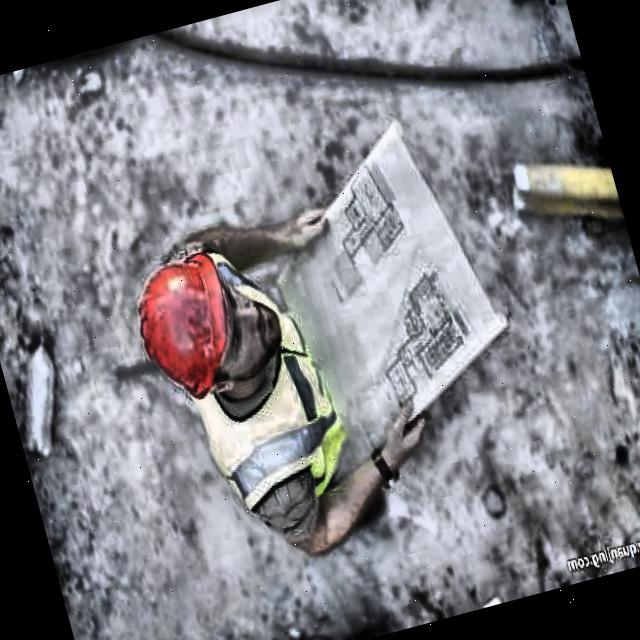helmet: (122, 229, 300, 433)
